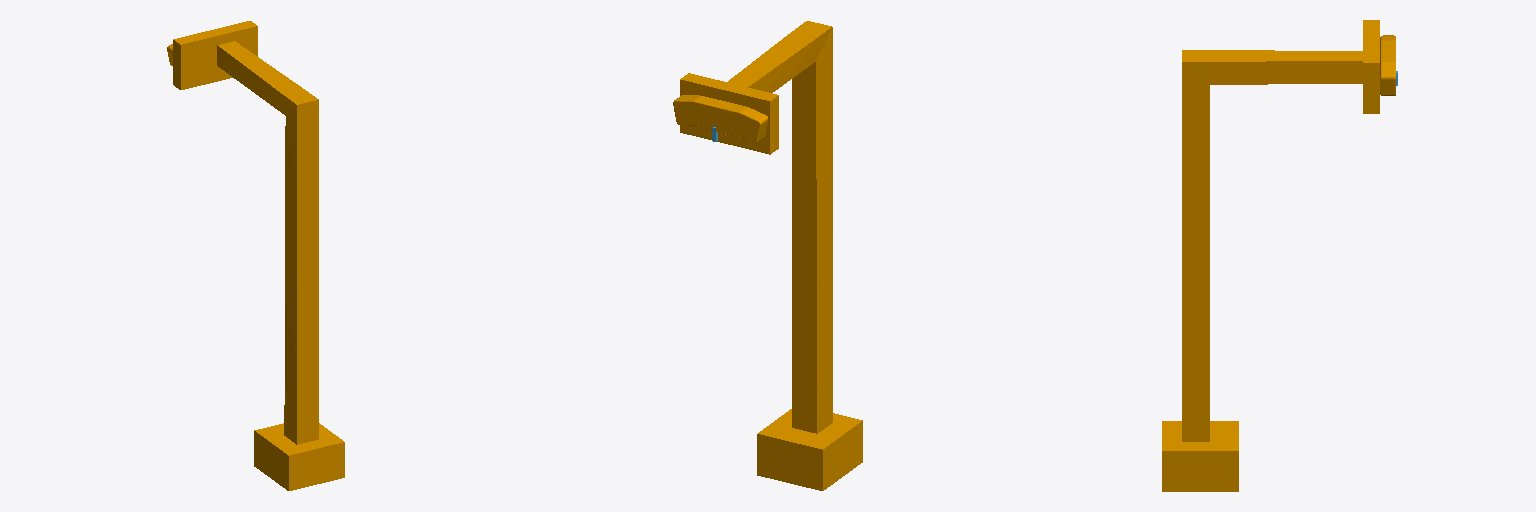
The robot description file, URDF, robot "canera3d":
<?xml version="1.0" ?>
<robot name="canera3d">
  <link name="base">
    <inertial>
      <mass value="4.0"/>
      <origin rpy="0 0 0" xyz="0.0 0.0 0.0"/>
      <inertia ixx="0.0" ixy="0.0" ixz="0.0" iyy="0.0" iyz="0.0" izz="0.0"/>
    </inertial>
    <visual>
      <origin rpy="0 0 0" xyz="0 0 0"/>
      <geometry>
        <mesh filename="camera3d/camera.obj" scale="1 1 1"/>
      </geometry>
    </visual>
  </link>
  <link name="link_ee">
    <inertial>
      <mass value="0.1"/>
      <origin rpy="0 0 0" xyz="0 0 0"/>
      <inertia ixx="0.0" ixy="0.0" ixz="0.0" iyy="0.0" iyz="0.0" izz="0.0"/>
    </inertial>
    <visual>
      <geometry>
        <box size="0.01 0.04 0.01"/>
      </geometry>
    </visual>
  </link>

  <joint name="joint_ee" type="fixed">
    <origin rpy="-1.57 0 0" xyz="-0.019 0.524767 1.17"/>
    <parent link="base"/>
    <child link="link_ee"/>
    <axis xyz="0 0 1"/>
  </joint>

</robot>

--- What the picture shows (computed from the rendered views, not written in the file) ---
Views: 3 orthographic renders of the robot side by side, from view 1: azimuth 30°, elevation 25°; view 2: azimuth 150°, elevation 25°; view 3: azimuth 270°, elevation 25°.
Robot: canera3d — 2 links, 1 joints (1 fixed); root link base; default pose: every joint at zero.
Links seen in each view (by area): view 1: base; view 2: base; view 3: base.
Link boxes in pixels (x1,y1,x2,y2): base: [167, 21, 344, 490]; base: [673, 21, 862, 490]; base: [1162, 20, 1395, 491].
Bounding box of the posed robot: 0.2668 × 0.6306 × 1.27 m (x, y, z).
Meshes: 1 distinct files referenced, 1 mesh visuals loaded (1 OBJ).